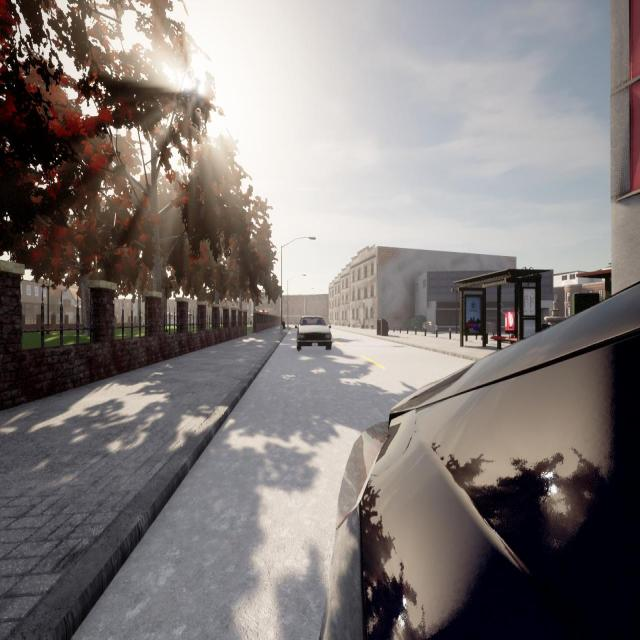Vehicle: (322, 279, 640, 640), (296, 315, 332, 350)
